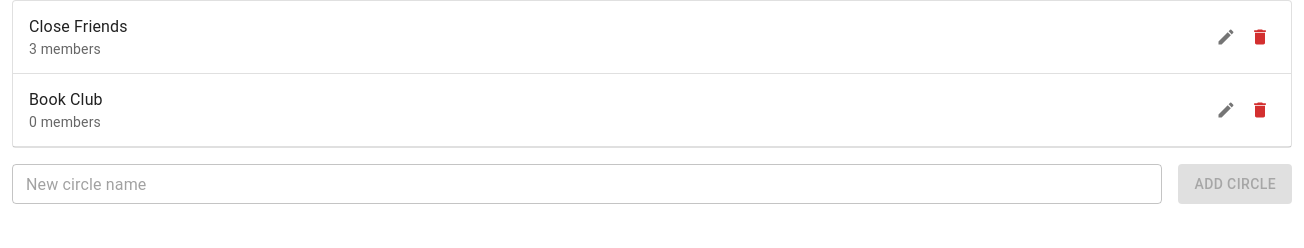
Test: a duplicate-name create failure shows an inline error and keeps the typed name
The width and height of the screenshot is (1304, 248).
Type "Work" into the field with placeholder "New circle name" at (587, 184), box [12,164,1162,204]
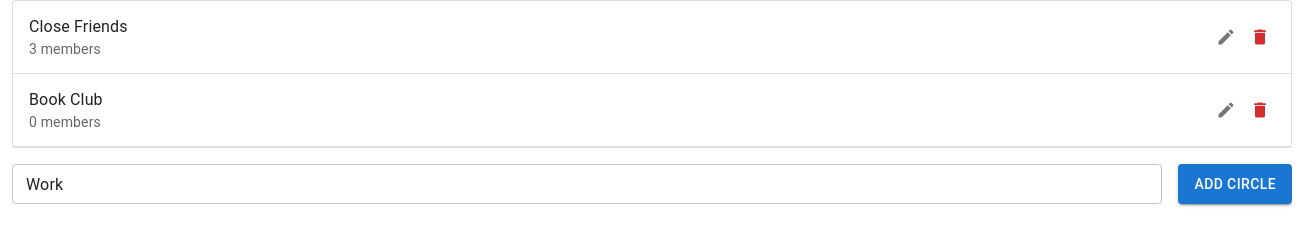
Click the button "Add Circle" at (1235, 184), box [1178,164,1292,204]
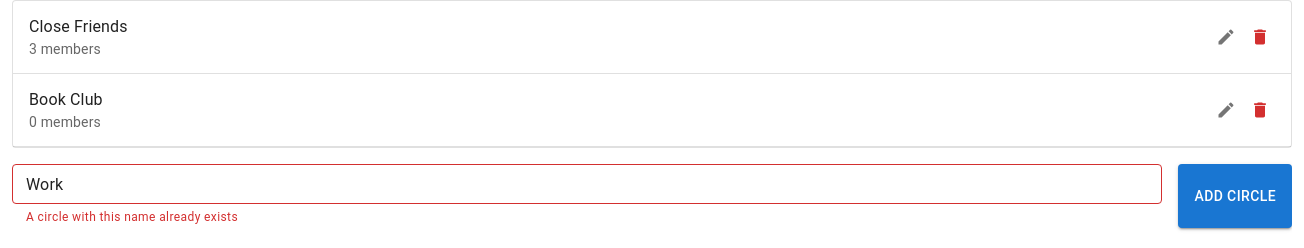
Check: the text "A circle with this name already exists" is shown, box [26,210,238,224]
# Editing the name clears the stale error.
Replace the text in the field with placeholder "New circle name" with "Work 2" at (587, 184), box [12,164,1162,204]
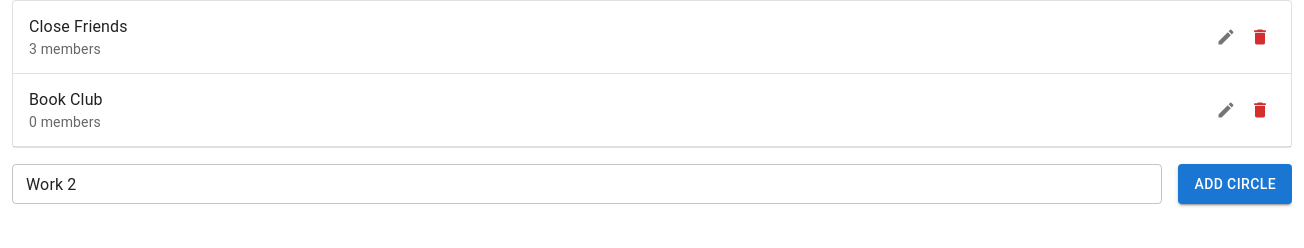
Check: the text "A circle with this name already exists" is gone
